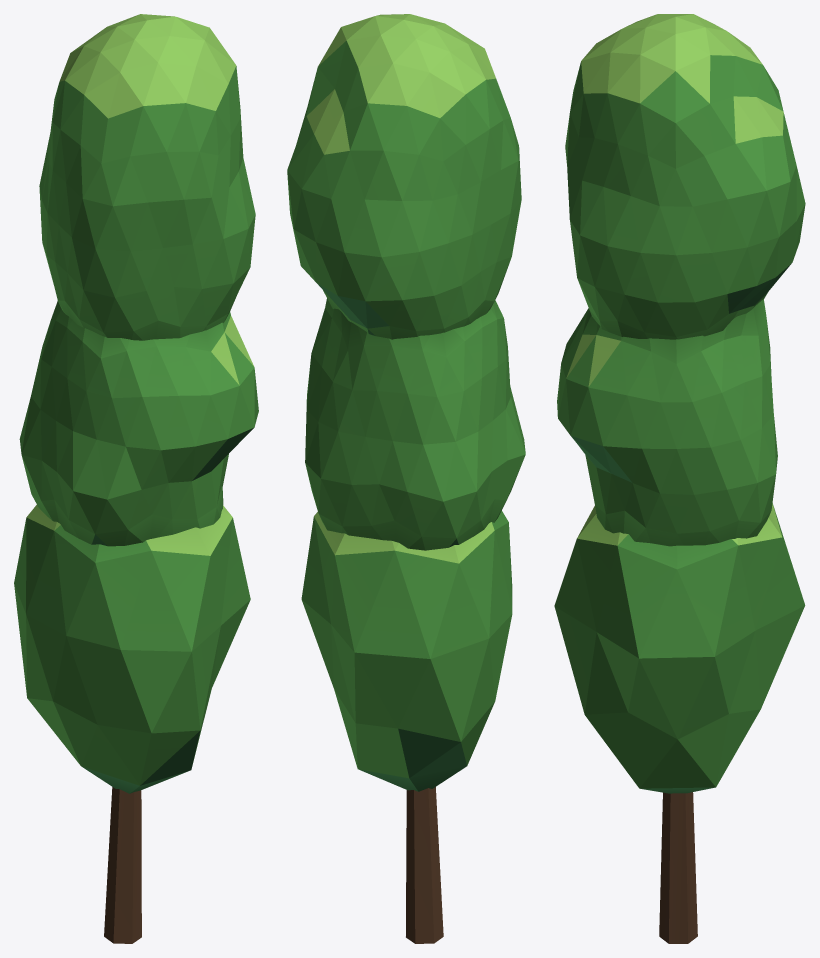
Rendered from tree_poplar_b.glb.
3 views of the same model, side by side, from view 1: azimuth 30°, elevation 25°; view 2: azimuth 150°, elevation 25°; view 3: azimuth 270°, elevation 25° (orthographic). The views are drawn at different scales.
Parts seen in each view (by area): view 1: Canopy, Trunk; view 2: Canopy, Trunk; view 3: Canopy, Trunk.
Boxes of the visible parts, x1,y1,x2,y2 form: Canopy: [14, 14, 258, 793]; Trunk: [104, 787, 141, 943]; Canopy: [287, 14, 525, 791]; Trunk: [406, 787, 443, 943]; Canopy: [554, 14, 805, 793]; Trunk: [659, 792, 697, 943].
Size of the model in its own units: 2.63 by 11.68 by 2.85.
Materials: 1 (1 with a texture image).
